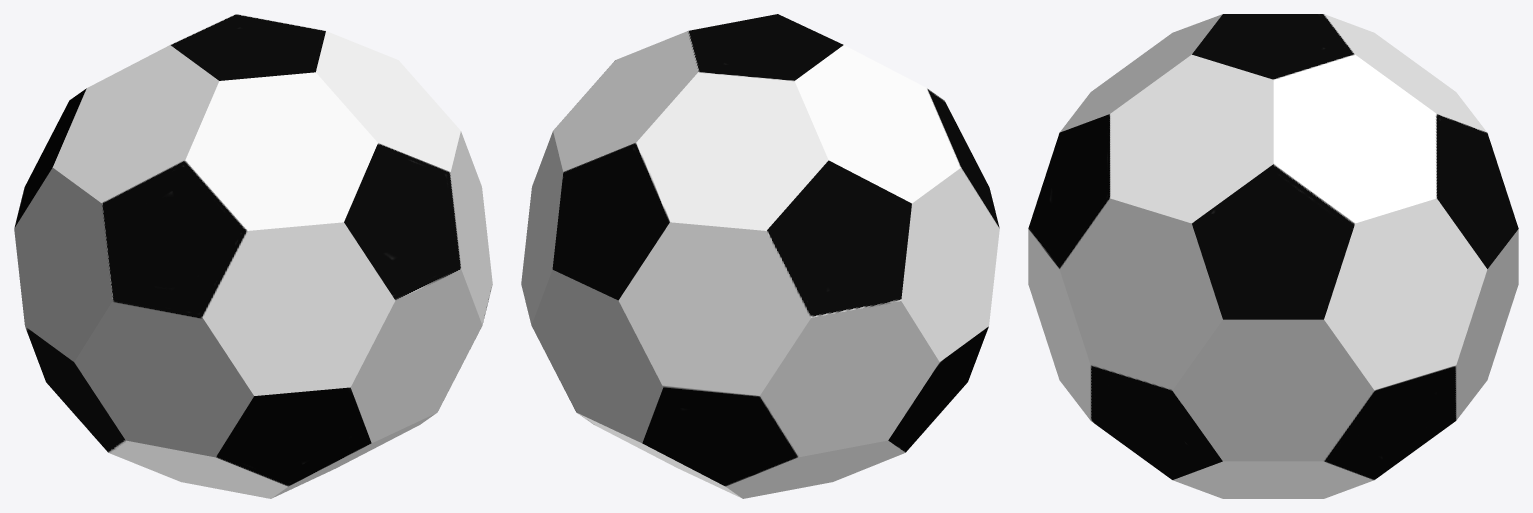
Rendered from soccer.fbx.
The picture shows the model from 3 angles, left to right: view 1: azimuth 30°, elevation 25°; view 2: azimuth 150°, elevation 25°; view 3: azimuth 270°, elevation 25°; orthographic projection. The views are drawn at different scales.
Parts seen in each view (by area): view 1: Icosphere; view 2: Icosphere; view 3: Icosphere.
Part boxes in pixels (x1=…): Icosphere: x1=14, y1=14, x2=492, y2=498; Icosphere: x1=521, y1=14, x2=999, y2=498; Icosphere: x1=1028, y1=14, x2=1518, y2=498.
Bounding box in the file's own units: 167 × 163 × 170.
1 material, 1 textured.
